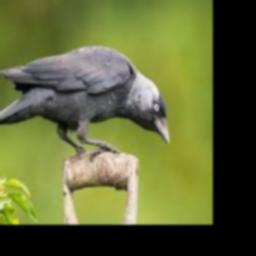Crow: (0, 45, 169, 161)
